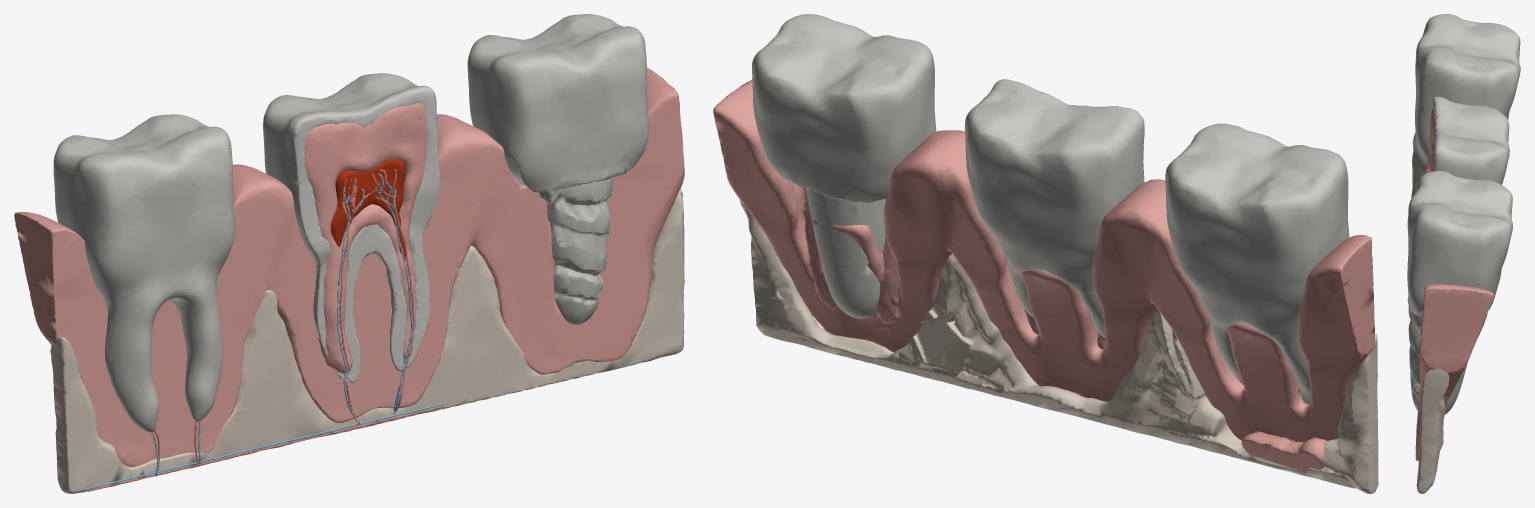
Rendered from house_diente.gltf.
The picture shows the model from 3 angles, left to right: view 1: azimuth 30°, elevation 25°; view 2: azimuth 150°, elevation 25°; view 3: azimuth 270°, elevation 25°; orthographic projection. The views are drawn at different scales.
Visible parts, largest first — view 1: Layer_2, Layer_1, Layer_11, Layer_6, Layer_5, Layer_7, Layer_10, Layer_9, Layer_8; view 2: Layer_2, Layer_11, Layer_1, Layer_5, Layer_6, Layer_10; view 3: Layer_6, Layer_1, Layer_2, Layer_5, Layer_11, Layer_10, Layer_7.
Part boxes in pixels (x1=…): Layer_2: x1=14, y1=67, x2=684, y2=467; Layer_1: x1=53, y1=114, x2=234, y2=432; Layer_11: x1=50, y1=188, x2=684, y2=493; Layer_6: x1=467, y1=14, x2=649, y2=192; Layer_5: x1=263, y1=73, x2=440, y2=382; Layer_7: x1=304, y1=103, x2=427, y2=373; Layer_10: x1=539, y1=178, x2=613, y2=324; Layer_9: x1=83, y1=169, x2=445, y2=491; Layer_8: x1=330, y1=158, x2=406, y2=258; Layer_2: x1=713, y1=79, x2=1375, y2=471; Layer_11: x1=739, y1=199, x2=1378, y2=493; Layer_1: x1=1165, y1=123, x2=1349, y2=403; Layer_5: x1=965, y1=79, x2=1144, y2=338; Layer_6: x1=752, y1=14, x2=936, y2=203; Layer_10: x1=806, y1=188, x2=885, y2=318; Layer_6: x1=1407, y1=171, x2=1512, y2=315; Layer_1: x1=1411, y1=14, x2=1520, y2=197; Layer_2: x1=1415, y1=284, x2=1493, y2=460; Layer_5: x1=1431, y1=96, x2=1509, y2=184; Layer_11: x1=1416, y1=368, x2=1449, y2=493; Layer_10: x1=1408, y1=305, x2=1467, y2=414; Layer_7: x1=1428, y1=109, x2=1434, y2=171.
Bounding box in the file's own units: 2.87 × 1.44 × 0.5632.
